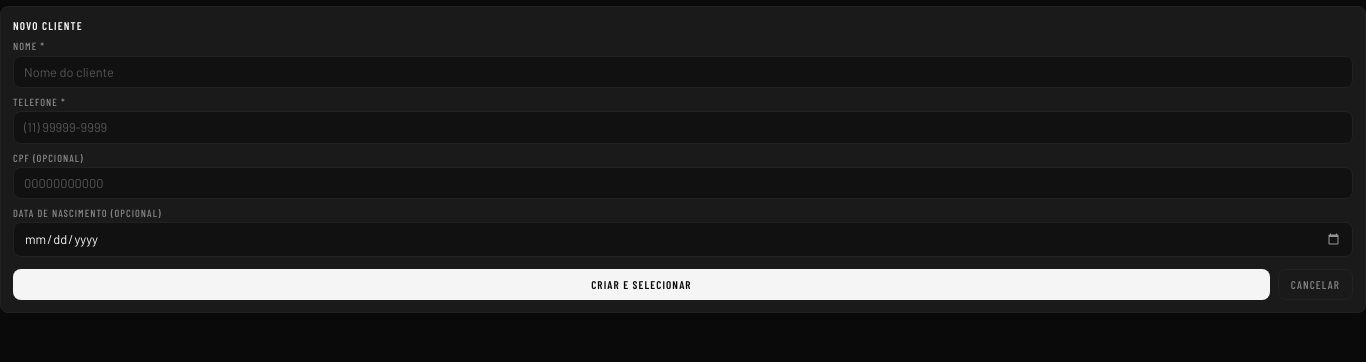
it: QuickCreateCustomerForm › rejects submit when nome is empty
Click the button with test id "quick-create-submit" at (641, 284), box 13,269 -> 1270,300
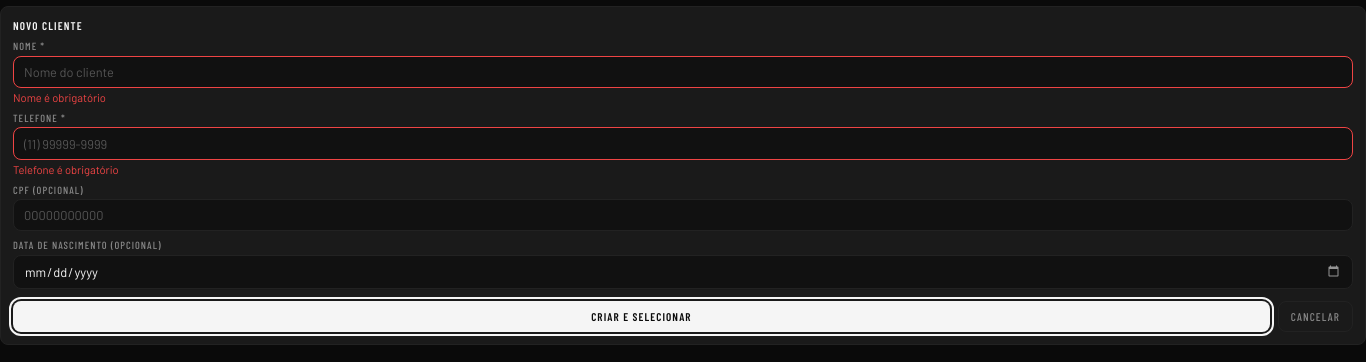
Now the text "Nome é obrigatório" is shown, box 13,91 -> 106,104
